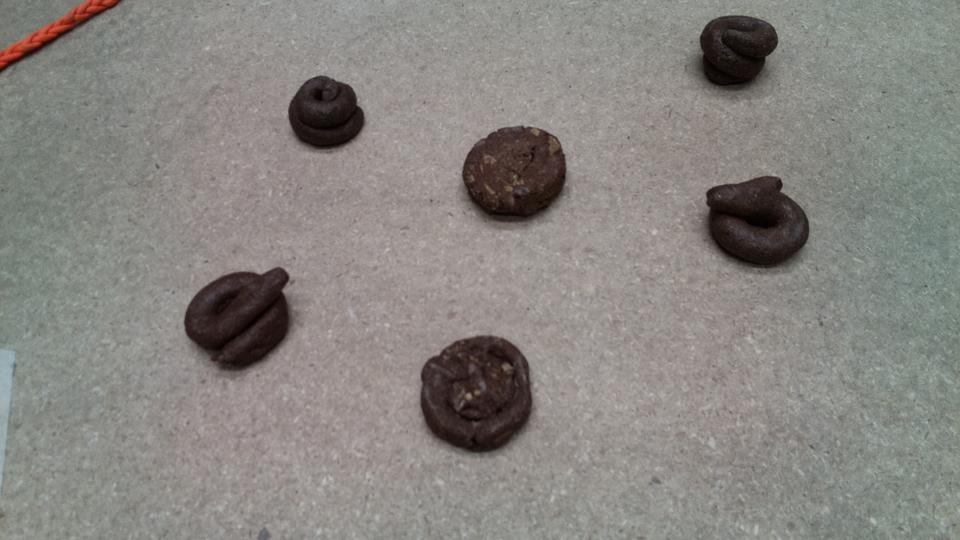poop: (418, 325, 540, 452), (179, 264, 308, 372), (459, 119, 572, 227), (703, 174, 813, 274), (288, 73, 376, 154), (697, 16, 785, 92)
